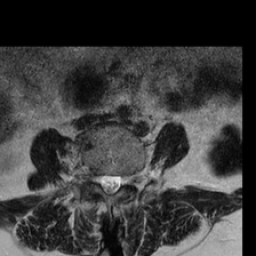CCS_normal: (106, 165, 113, 201)
LFS_normal: (121, 166, 129, 192)
LLS_normal: (113, 166, 121, 198)
RFS_normal: (90, 165, 98, 189)
RLS_normal: (98, 167, 106, 193)
